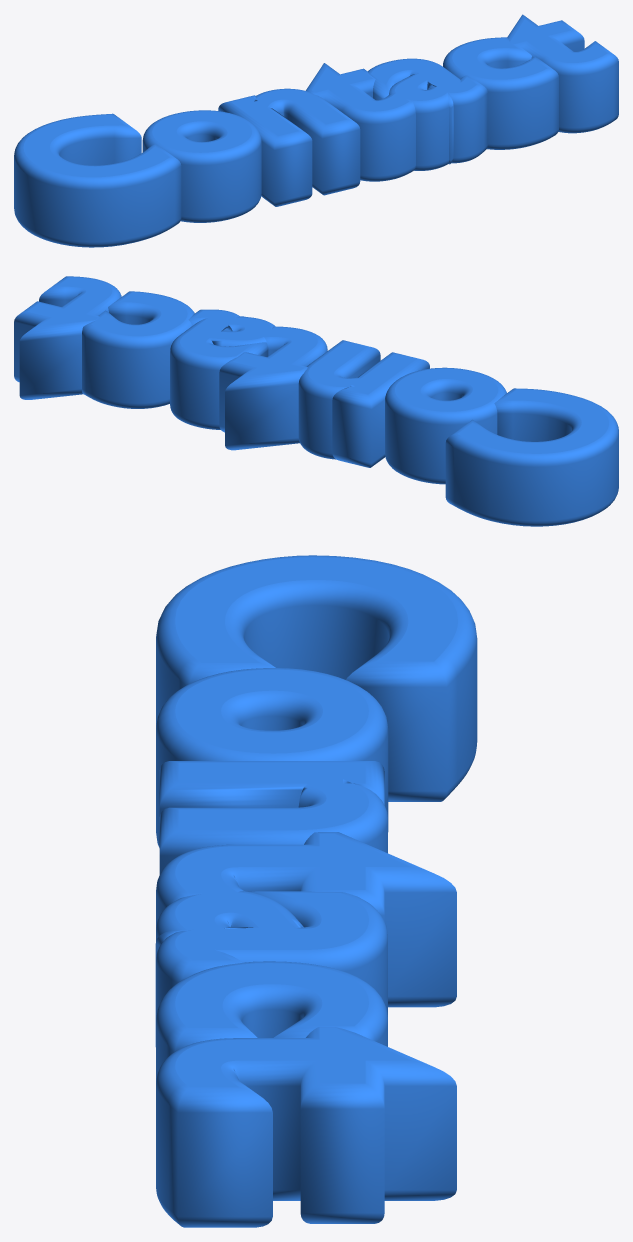
File: contact.gltf
The picture shows the model from 3 angles, top to bottom: view 1: azimuth 30°, elevation 25°; view 2: azimuth 150°, elevation 25°; view 3: azimuth 270°, elevation 25°; orthographic projection. The views are drawn at different scales.
Parts seen in each view (by area): view 1: Text; view 2: Text; view 3: Text.
Boxes of the visible parts, left/top/right/bottom form: Text: left=14, top=14, right=618, bottom=247; Text: left=14, top=276, right=618, bottom=526; Text: left=155, top=555, right=477, bottom=1227.
Bounding box in the file's own units: 3.38 × 0.4 × 0.8408.
